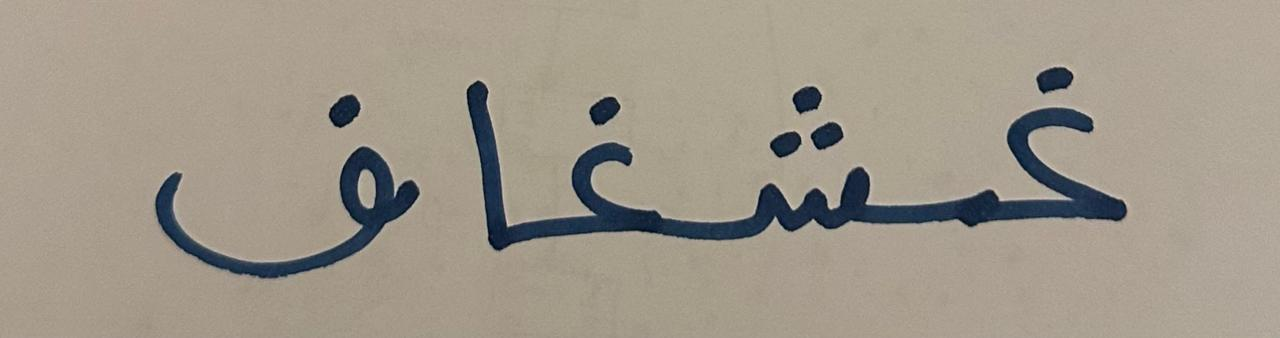alef: (426, 38, 526, 302)
feh: (111, 42, 420, 302)
ghain: (909, 13, 1158, 274), (530, 49, 692, 299)
tah: (695, 3, 904, 296)
